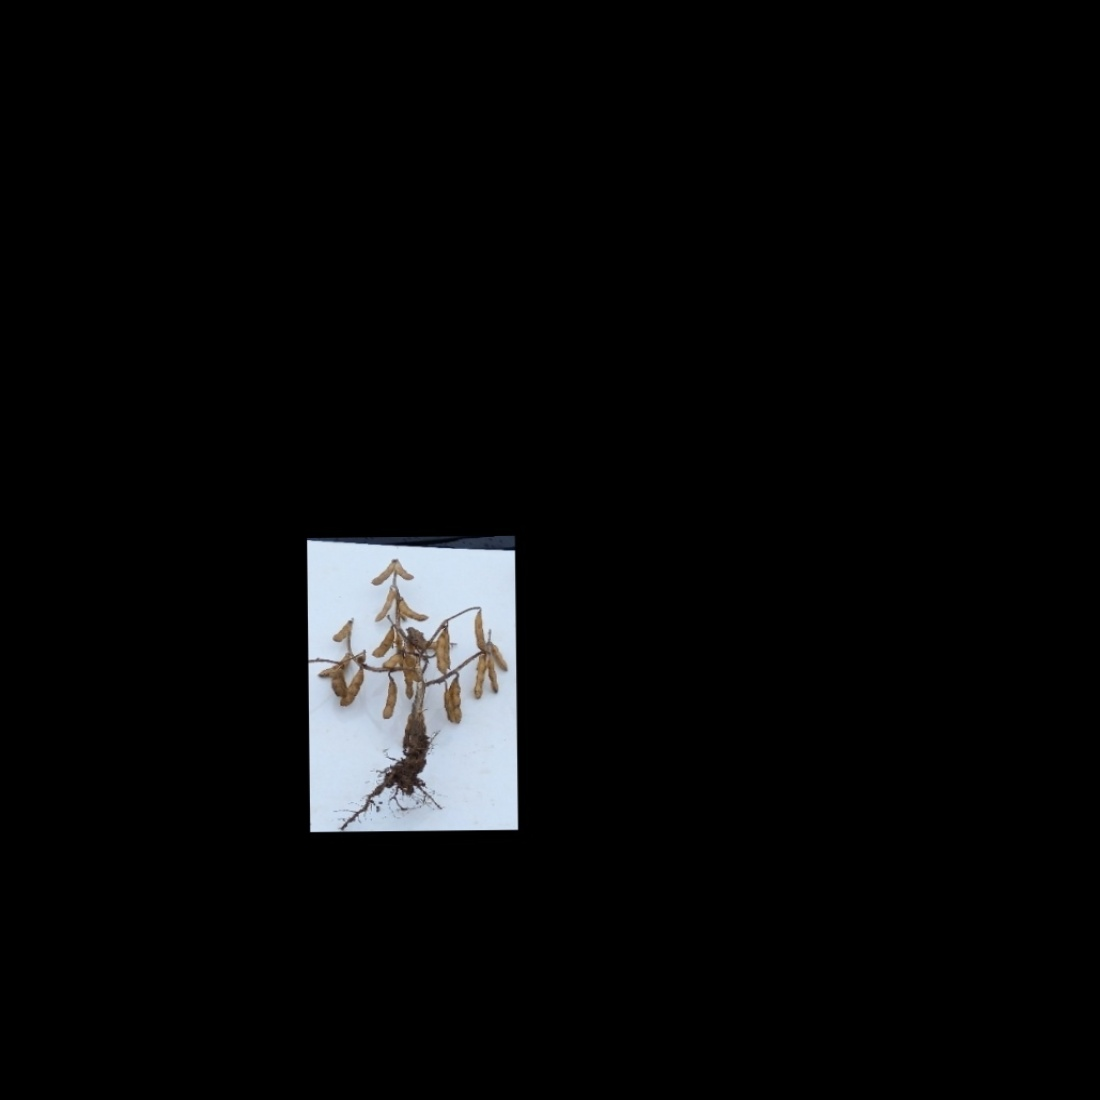pod: (338, 670, 368, 709), (395, 590, 429, 622), (450, 680, 471, 727), (379, 679, 399, 722), (370, 588, 394, 624), (370, 626, 394, 658), (472, 657, 488, 702), (369, 561, 394, 587), (329, 618, 352, 643), (435, 633, 446, 676), (443, 629, 454, 667), (379, 651, 401, 669), (475, 609, 485, 652), (403, 671, 413, 700)
soy: (316, 553, 514, 822)
